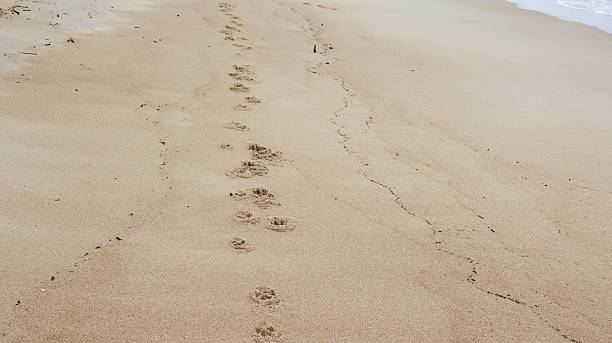animal_footprint: (230, 187, 279, 208), (227, 161, 267, 177), (248, 143, 283, 161), (250, 286, 279, 306), (253, 322, 281, 342), (265, 216, 294, 231), (228, 65, 254, 80), (228, 237, 252, 251), (235, 210, 259, 224), (223, 121, 248, 130), (229, 82, 248, 92), (218, 2, 233, 13), (317, 4, 337, 10), (223, 25, 240, 31), (234, 104, 248, 111), (230, 19, 243, 26), (245, 96, 260, 102), (220, 143, 232, 149), (224, 35, 234, 40)
